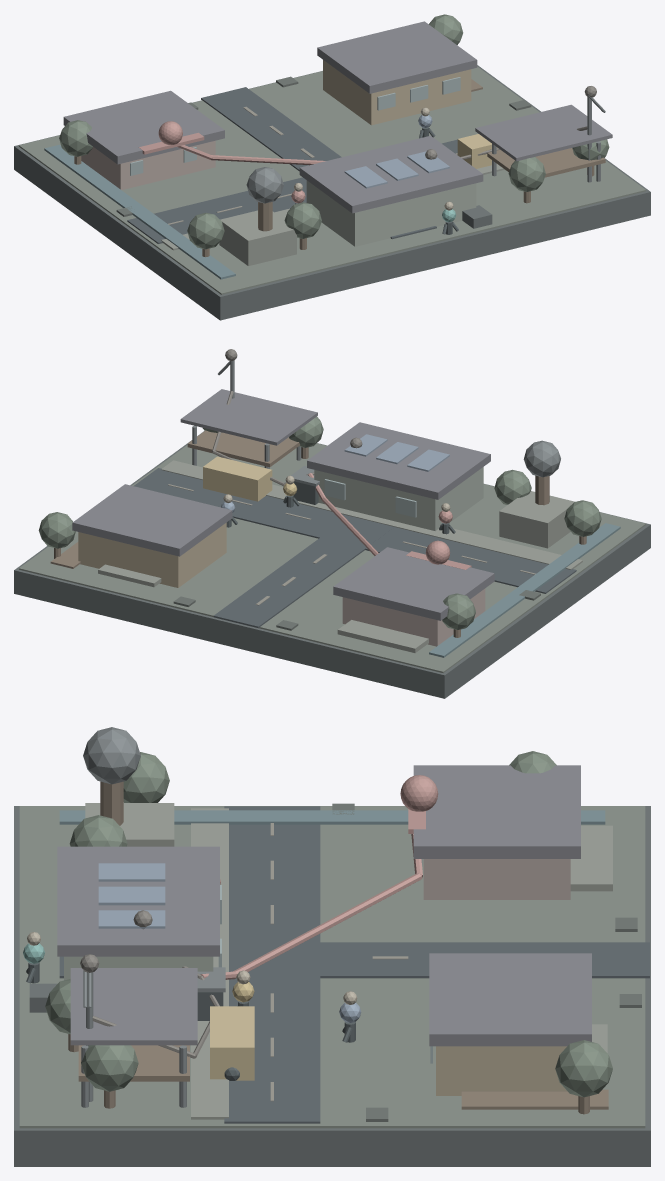
The model's file is yudae_e_clinic_direct.glb.
3 views of the same model, one above another, from view 1: azimuth 30°, elevation 25°; view 2: azimuth 150°, elevation 25°; view 3: azimuth 270°, elevation 25° (orthographic). The views are drawn at different scales.
Visible parts, largest first — view 1: g0001, g0000, g0037, g0043, g0031, g0042, g0003, g0054, g0036, g0061, g0030, g0016 (+17 smaller); view 2: g0001, g0000, g0002, g0037, g0043, g0031, g0003, g0042, g0036, g0054, g0015, g0061 (+14 smaller); view 3: g0001, g0000, g0002, g0037, g0043, g0031, g0003, g0054, g0030, g0036, g0015, g0016 (+20 smaller).
Part boxes in pixels (<box>): g0001: <box>19,66,645,294</box>; g0000: <box>14,65,650,320</box>; g0037: <box>317,21,477,93</box>; g0043: <box>299,135,483,213</box>; g0031: <box>63,90,224,164</box>; g0042: <box>306,180,476,246</box>; g0003: <box>201,87,436,239</box>; g0054: <box>475,104,612,161</box>; g0036: <box>323,60,471,125</box>; g0061: <box>219,210,296,265</box>; g0030: <box>81,140,215,190</box>; g0016: <box>44,144,235,279</box>; g0001: <box>19,443,645,673</box>; g0000: <box>14,431,650,698</box>; g0002: <box>133,468,576,593</box>; g0037: <box>72,484,232,556</box>; g0043: <box>307,422,490,499</box>; g0031: <box>333,547,494,620</box>; g0003: <box>213,516,394,628</box>; g0042: <box>314,467,483,530</box>; g0036: <box>78,522,226,587</box>; g0054: <box>180,389,317,445</box>; g0015: <box>161,460,582,569</box>; g0061: <box>499,491,575,548</box>; g0001: <box>19,806,645,1128</box>; g0000: <box>14,806,650,1166</box>; g0002: <box>224,806,320,1123</box>; g0037: <box>429,953,591,1046</box>; g0043: <box>57,846,219,956</box>; g0031: <box>413,765,580,858</box>; g0003: <box>59,942,649,978</box>; g0054: <box>70,968,197,1045</box>; g0030: <box>423,859,570,899</box>; g0036: <box>436,1046,567,1095</box>; g0015: <box>191,808,228,1119</box>; g0016: <box>59,810,605,824</box>.
Bounding box in the file's own units: 3.45 × 0.918 × 2.86.
